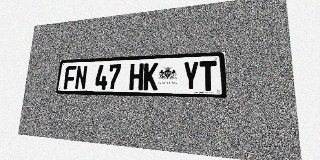4: (95, 65, 109, 90)
7: (107, 64, 121, 90)
F: (63, 66, 77, 89)
H: (129, 63, 144, 90)
K: (143, 63, 158, 90)
N: (74, 65, 88, 90)
T: (200, 61, 217, 91)
Y: (183, 61, 199, 91)
